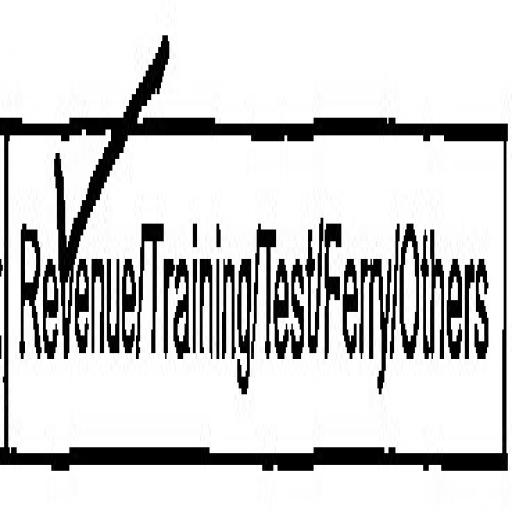check: (0, 0, 140, 509)
